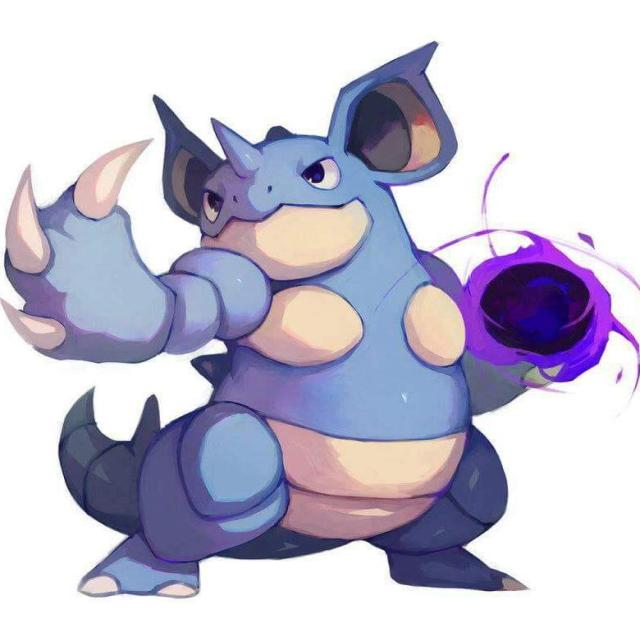Nidoqueen: (79, 130, 640, 621)
